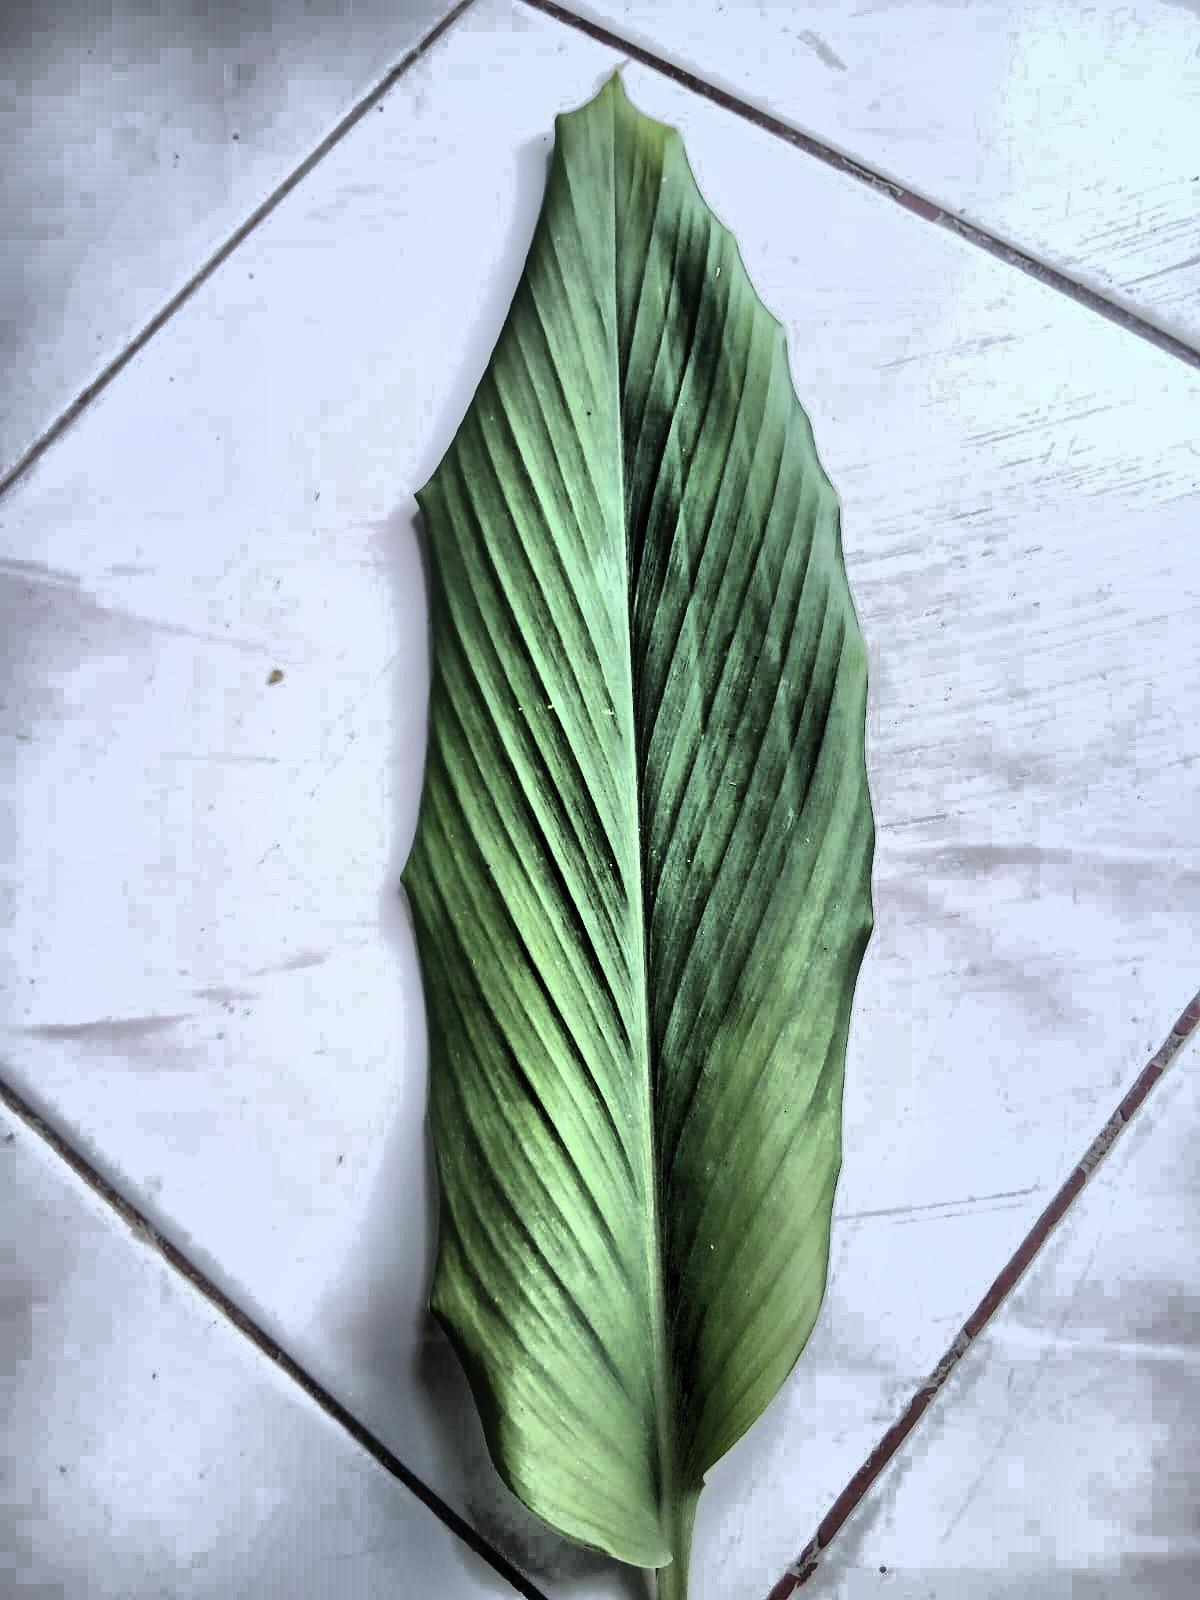daun kunyit: (405, 76, 874, 1599)
